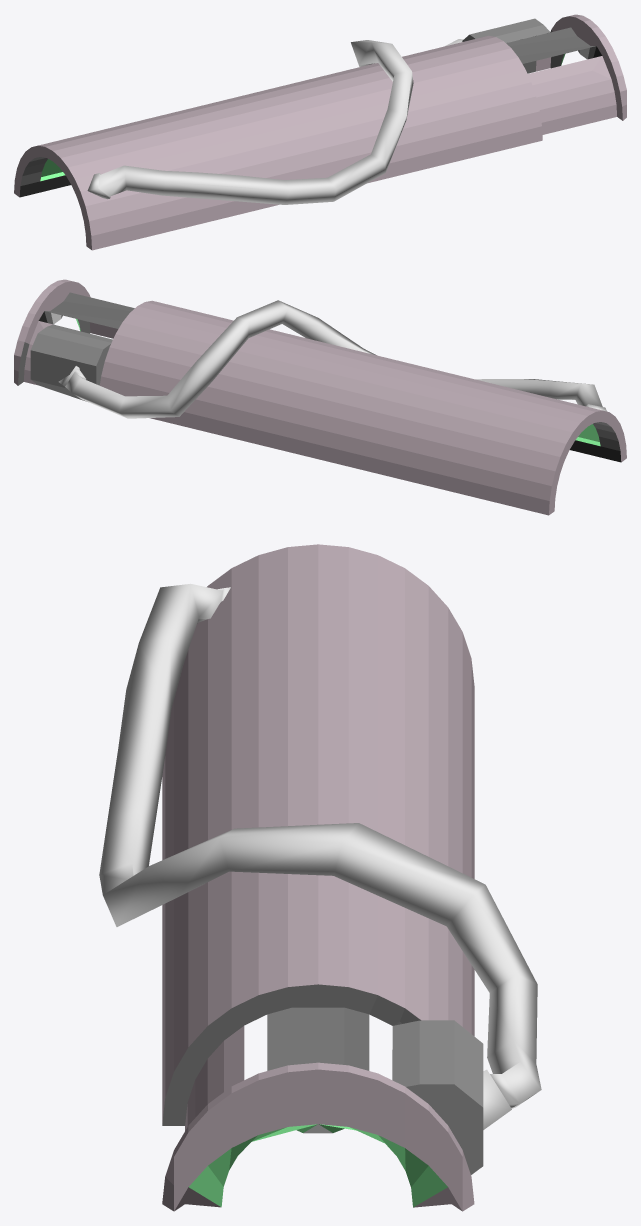
Rendered from MEGAMANO_Kart_Tunel 1.fbx.
The picture shows the model from 3 angles, top to bottom: view 1: azimuth 30°, elevation 25°; view 2: azimuth 150°, elevation 25°; view 3: azimuth 270°, elevation 25°; orthographic projection. The views are drawn at different scales.
Parts seen in each view (by area): view 1: Cylinder, BezierCurve; view 2: Cylinder, BezierCurve; view 3: Cylinder, BezierCurve.
Part boxes in pixels (x1,y1,x2,y2): Cylinder: [14, 14, 626, 250]; BezierCurve: [87, 39, 463, 204]; Cylinder: [14, 279, 626, 515]; BezierCurve: [58, 300, 606, 418]; Cylinder: [162, 544, 483, 1211]; BezierCurve: [99, 583, 541, 1129].
Size of the model in its own units: 932 by 155 by 332.
